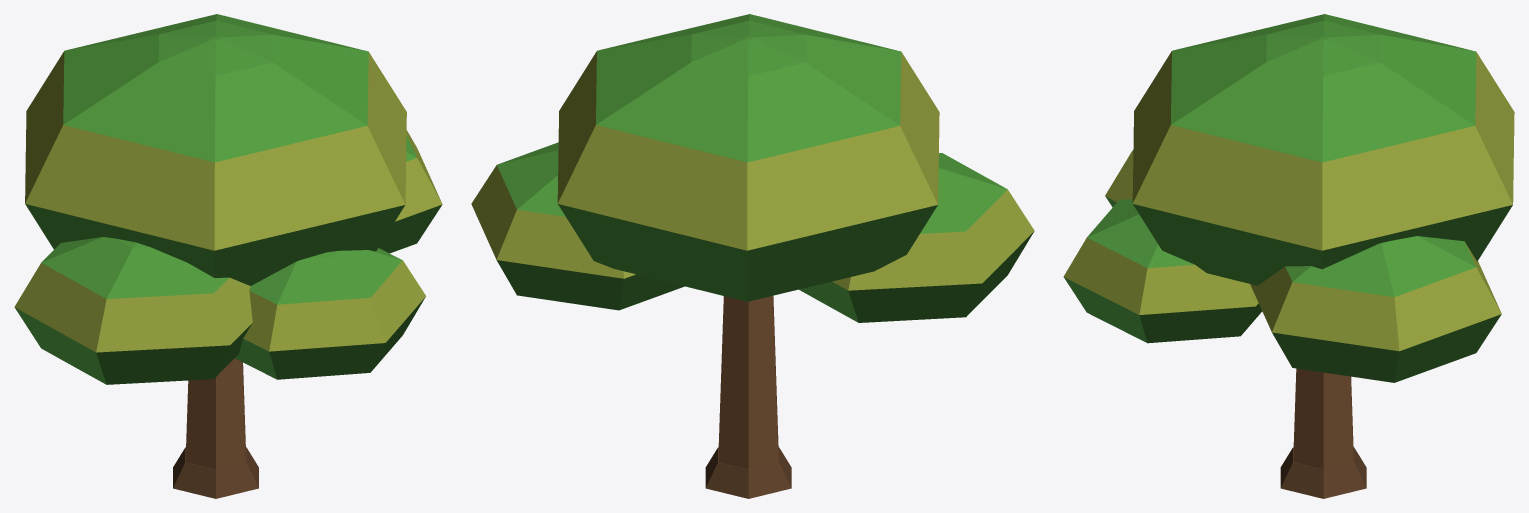
File: apple-harvested.glb
The picture shows the model from 3 angles, left to right: view 1: azimuth 30°, elevation 25°; view 2: azimuth 150°, elevation 25°; view 3: azimuth 270°, elevation 25°; orthographic projection.
Visible parts, largest first — view 1: apple-harvested; view 2: apple-harvested; view 3: apple-harvested.
Part boxes in pixels (x1,y1,x2,y2): apple-harvested: (14,14,442,498); apple-harvested: (471,14,1034,498); apple-harvested: (1063,14,1514,498).
Size of the model in its own units: 0.6247 by 0.574 by 0.5339.
1 material, 1 textured.
